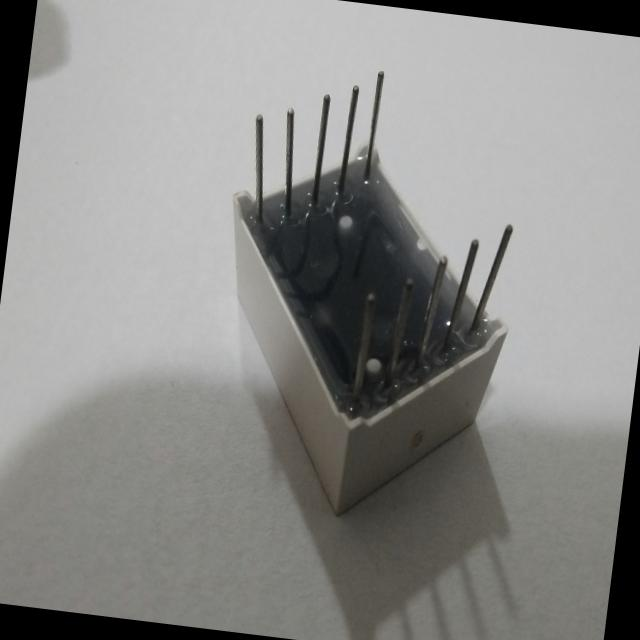7_segments: (184, 44, 546, 554)
